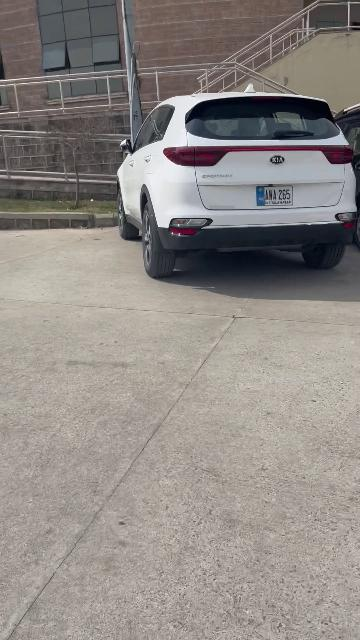plate: (257, 186, 293, 206)
